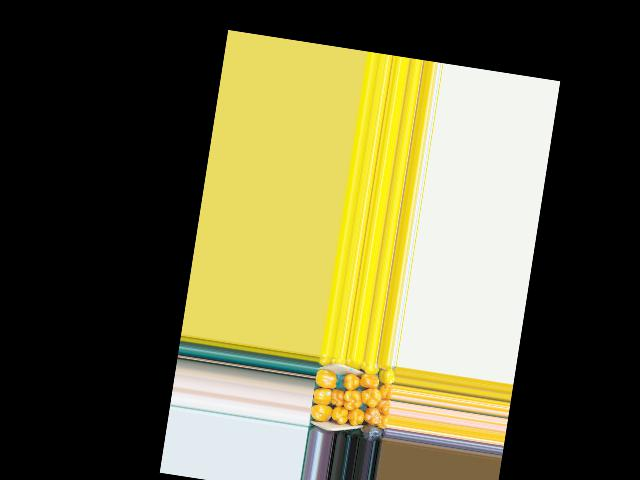bell_pepper: (357, 361, 380, 374)
